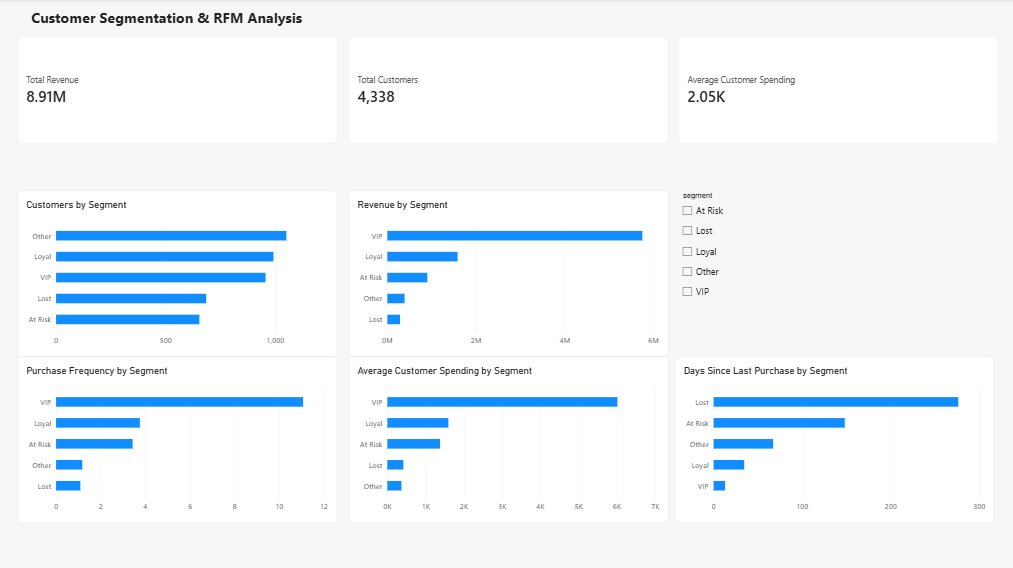

This screenshot's page, from the dashboard's own definition file:
{"tool":"powerbi","page":{"name":"Page 1","canvas":[1920,1080],"ordinal":0},"visuals":[{"type":"clusteredBarChart","title":"Customers by Segment","fields":{"Category":["customer_segments.segment"],"Y":["Count(customer_segments.customer_id)"]},"box":[40,360,600,312],"z":0},{"type":"clusteredBarChart","title":"Revenue by Segment","fields":{"Category":["customer_segments.segment"],"Y":["Sum(customer_segments.monetary)"]},"box":[660,360,600,312],"z":1000},{"type":"cardVisual","title":"Total Revenue","fields":{"Data":["Sum(customer_segments.monetary)"]},"box":[40,72,600,200],"z":2000},{"type":"cardVisual","fields":{"Data":["Count(customer_segments.customer_id)"]},"box":[660,72,600,200],"z":3000},{"type":"cardVisual","fields":{"Data":["Avg(customer_segments.monetary)"]},"box":[1280,72,600,200],"z":4000},{"type":"slicer","fields":{"Values":["customer_segments.segment"]},"box":[1280,360,600,312],"z":5000},{"type":"clusteredBarChart","title":"Days Since Last Purchase by Segment","fields":{"Category":["customer_segments.segment"],"Y":["Avg(customer_segments.recency)"]},"box":[1272,672,600,312],"z":6000},{"type":"clusteredBarChart","title":"Purchase Frequency by Segment","fields":{"Category":["customer_segments.segment"],"Y":["Avg(customer_segments.frequency)"]},"box":[40,672,600,312],"z":7000},{"type":"textbox","box":[0,0,792,72],"z":8000},{"type":"clusteredBarChart","title":"Average Customer Spending by Segment","fields":{"Category":["customer_segments.segment"],"Y":["Avg(customer_segments.monetary)"]},"box":[660,672,600,312],"z":9000}]}

Visuals, with their boxes in screenshot pixels (x1, y1, x2, y2), scaled from the page's 1920x1080 canvas onto the 1013x568 screenshot:
"Customers by Segment" clusteredBarChart: 21/189/338/353
"Revenue by Segment" clusteredBarChart: 348/189/665/353
"Total Revenue" cardVisual: 21/38/338/143
cardVisual - Count(customer_segments.customer_id): 348/38/665/143
cardVisual - Avg(customer_segments.monetary): 675/38/992/143
slicer - customer_segments.segment: 675/189/992/353
"Days Since Last Purchase by Segment" clusteredBarChart: 671/353/988/518
"Purchase Frequency by Segment" clusteredBarChart: 21/353/338/518
textbox: 0/0/418/38
"Average Customer Spending by Segment" clusteredBarChart: 348/353/665/518
